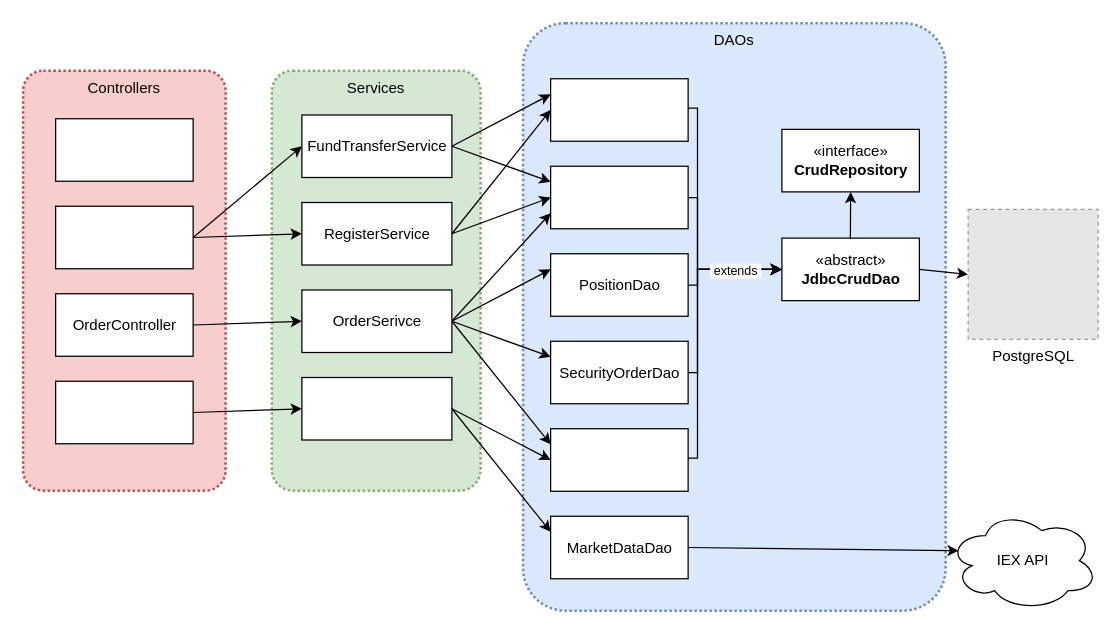
Some shapes in this 1120 by 633 pixel diagram are drawn without their labels. Grey dashed boxes stand in for pictures. Each missing label, with the centre of its shape:
AccountDao: [618,197]
AppController: [123,149]
QuoteController: [123,412]
QuoteDao: [618,459]
QuoteService: [376,408]
TraderController: [123,237]
TraderDao: [618,109]
